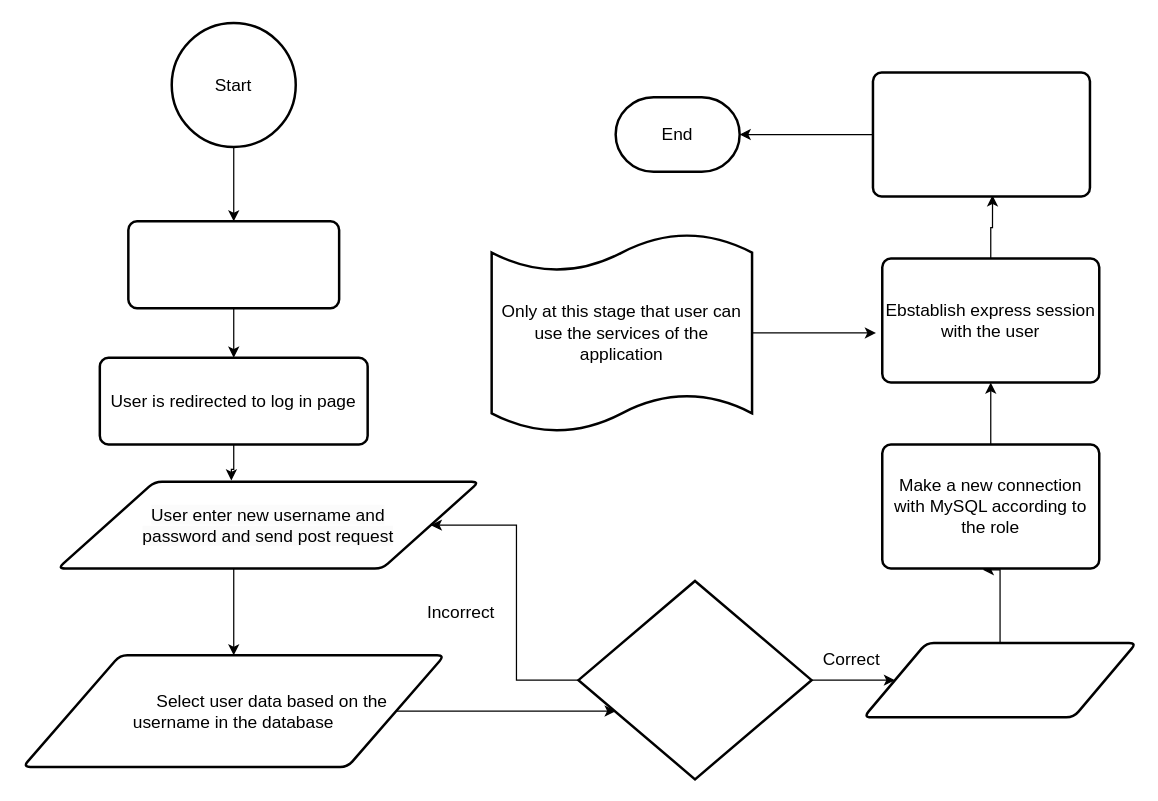
Image size: 1158x801. Some labels were removed from this diagram. Each missing label, with the centre of its shape:
Comparing hash passwords: point (694, 679)
Create connection with root user: point (233, 264)
Get the role of the user: point (999, 679)
Redirect user to corresponding page: point (981, 134)
